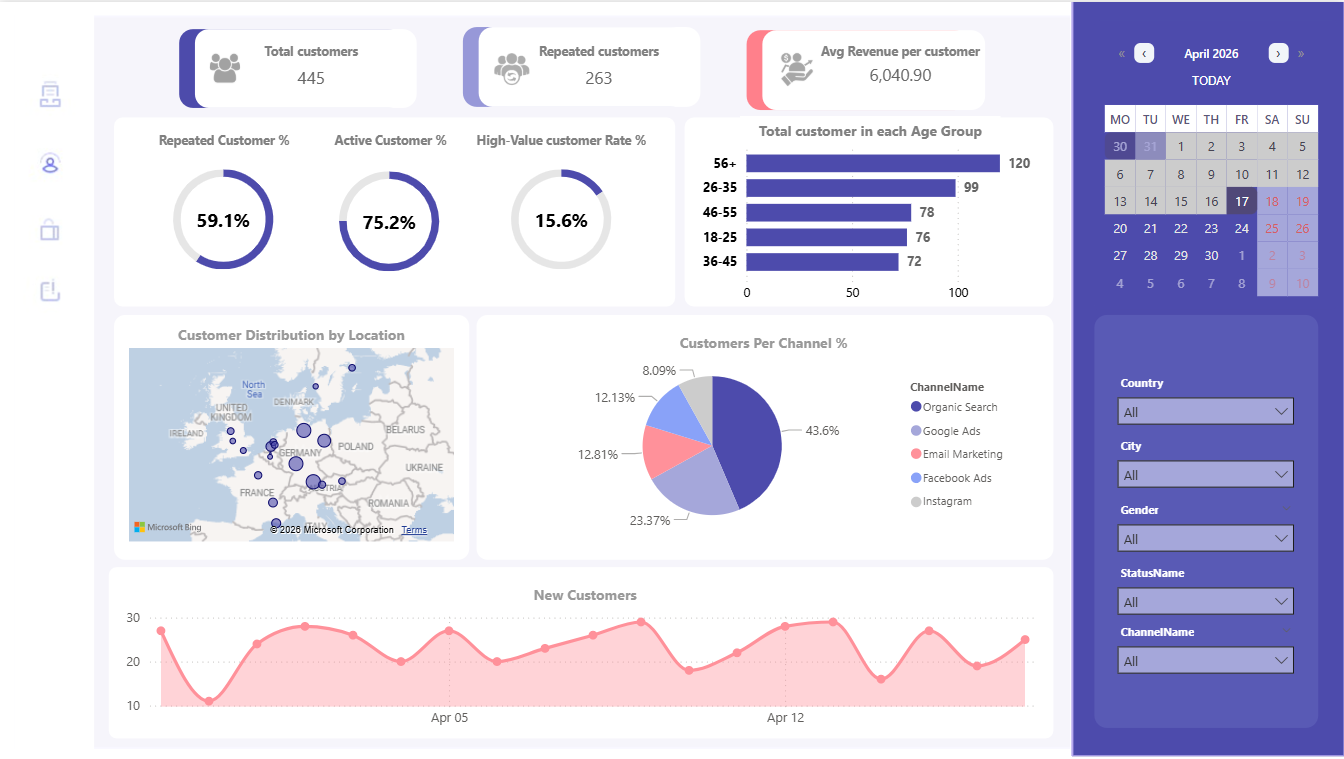

What the dashboard file says about the page in this screenshot:
{"tool":"powerbi","page":{"name":"Customer Analysis","canvas":[1280,720],"ordinal":1},"visuals":[{"type":"map","title":"Customer Distribution by Location","fields":{"Y":["Customers.Latitude"],"X":["Customers.Longitude"],"Size":["_Measures.Total Customers city"]},"box":[119.4,307.3,318.6,212.4],"z":0},{"type":"card","title":"Total customers","fields":{"Values":["_Measures.Total Customers"]},"box":[235.9,38.5,122.2,55.4],"z":1000},{"type":"card","title":"Repeated customers","fields":{"Values":["_Measures.Repeat Customers"]},"box":[484.7,38.4,172.9,55.5],"z":2000},{"type":"card","title":"Avg Revenue per customer","fields":{"Values":["_Measures.Avg Revenue per customer"]},"box":[762.2,38.4,191.1,50.2],"z":3000},{"type":"shape","title":"Repeated Customer %","box":[138.1,123.1,152.2,40.4],"z":4000},{"type":"politemailb8e3f237d2934ae2ac617d4524990658","fields":{"outergauge":["_Measures.Active Customer Rate"]},"box":[302.6,156,138.1,135.3],"z":5000},{"type":"shape","title":"Active Customer %","box":[297,123.1,151.3,40.4],"z":6000},{"type":"clusteredBarChart","fields":{"Category":["Customers.Age Group"],"Y":["_Measures.Total Customers"]},"box":[663.3,122.8,335.9,172.3],"z":7000},{"type":"slicer","fields":{"Values":["Customers.Country"]},"box":[1054.2,349.5,188,60.1],"z":8000},{"type":"slicer","fields":{"Values":["Customers.City"]},"box":[1054.2,409.7,188,60.1],"z":9000},{"type":"slicer","fields":{"Values":["Customers.Gender"]},"box":[1054.2,469.8,188,60.1],"z":10000},{"type":"slicer","fields":{"Values":["CustomerStatuses.StatusName"]},"box":[1054.2,530,188,60.1],"z":11000},{"type":"slicer","fields":{"Values":["AcquisitionChannels.ChannelName"]},"box":[1054.2,586.4,188,60.1],"z":12000},{"type":"pieChart","title":" Customers Per Channel %","fields":{"Y":["_Measures.Total Customers"],"Category":["AcquisitionChannels.ChannelName"]},"box":[484.9,314.8,484.9,197.4],"z":13000},{"type":"politemailb8e3f237d2934ae2ac617d4524990658","fields":{"outergauge":["_Measures.High-Value Customer Rate"]},"box":[466.1,154.1,138.1,135.3],"z":14000},{"type":"shape","title":"High-Value customer Rate %","box":[439.8,123.1,190.8,40.4],"z":15000},{"type":"politemailb8e3f237d2934ae2ac617d4524990658","fields":{"outergauge":["_Measures.Repeated Customer %"]},"box":[144.7,154.1,138.1,135.3],"z":16000},{"type":"lineChart","title":"New Customers","fields":{"Y":["_Measures.Total Customers"],"Category":["Customers.SignupDate.Variation.Date Hierarchy.Year","Customers.SignupDate.Variation.Date Hierarchy.Quarter","Customers.SignupDate.Variation.Date Hierarchy.Month","Customers.SignupDate.Variation.Date Hierarchy.Day"]},"box":[116.5,554.5,883.4,144.7],"z":17000},{"type":"textbox","box":[705.2,108.5,248.4,28.6],"z":18000},{"type":"SuperDatePicker_BIsuperheroCZ","fields":{"dateColumn":["Customers.SignupDate"]},"box":[1036.6,0,243.4,314.9],"z":19000}]}

Visuals, with their boxes on the page's 1280x720 design canvas (x1, y1, x2, y2). These are canvas units, not pixel positions in the 1344x759 screenshot, which may show the page scaled, cropped or inside an application window:
"Customer Distribution by Location" map: box=[119, 307, 438, 520]
"Total customers" card: box=[236, 38, 358, 94]
"Repeated customers" card: box=[485, 38, 658, 94]
"Avg Revenue per customer" card: box=[762, 38, 953, 89]
"Repeated Customer %" shape: box=[138, 123, 290, 164]
politemailb8e3f237d2934ae2ac617d4524990658 - _Measures.Active Customer Rate: box=[303, 156, 441, 291]
"Active Customer %" shape: box=[297, 123, 448, 164]
clusteredBarChart - Customers.Age Group x _Measures.Total Customers: box=[663, 123, 999, 295]
slicer - Customers.Country: box=[1054, 350, 1242, 410]
slicer - Customers.City: box=[1054, 410, 1242, 470]
slicer - Customers.Gender: box=[1054, 470, 1242, 530]
slicer - CustomerStatuses.StatusName: box=[1054, 530, 1242, 590]
slicer - AcquisitionChannels.ChannelName: box=[1054, 586, 1242, 646]
" Customers Per Channel %" pieChart: box=[485, 315, 970, 512]
politemailb8e3f237d2934ae2ac617d4524990658 - _Measures.High-Value Customer Rate: box=[466, 154, 604, 289]
"High-Value customer Rate %" shape: box=[440, 123, 631, 164]
politemailb8e3f237d2934ae2ac617d4524990658 - _Measures.Repeated Customer %: box=[145, 154, 283, 289]
"New Customers" lineChart: box=[116, 554, 1000, 699]
textbox: box=[705, 108, 954, 137]
SuperDatePicker_BIsuperheroCZ - Customers.SignupDate: box=[1037, 0, 1280, 315]
